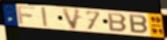7: (84, 10, 102, 31)
B: (107, 12, 129, 33), (128, 13, 149, 35)
F: (16, 5, 37, 25)
I: (40, 6, 49, 28)
V: (60, 7, 83, 31)
